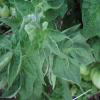Tomato leaf mosaic virus: (52, 50, 85, 91), (20, 40, 47, 85), (45, 34, 69, 66), (42, 28, 73, 44)
